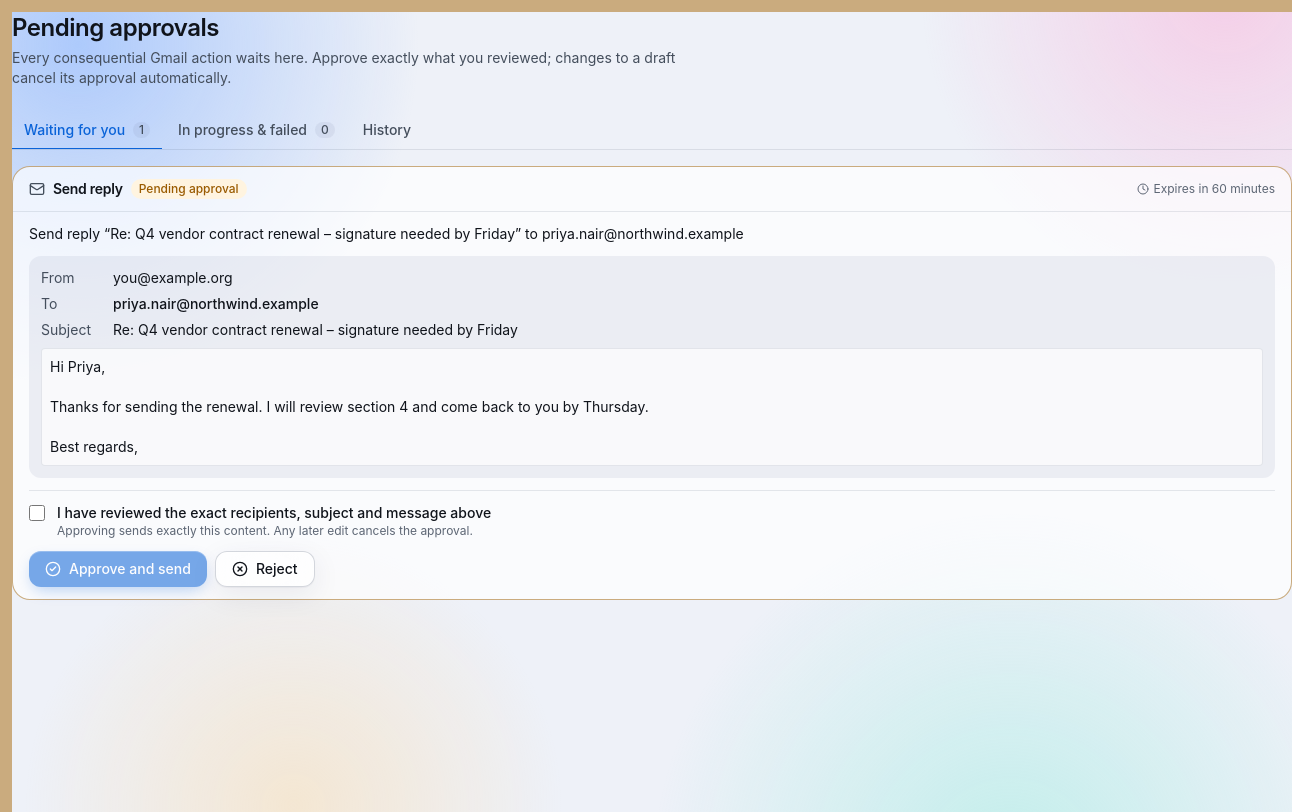
Test case: Approvals page › approves exactly the reviewed send request
The width and height of the screenshot is (1292, 812).
Expected: the button "Approve and send" is disabled, [29,551,207,587]
Click the checkbox labelled "reviewed the exact recipients": (37, 513) [29,505,45,521]
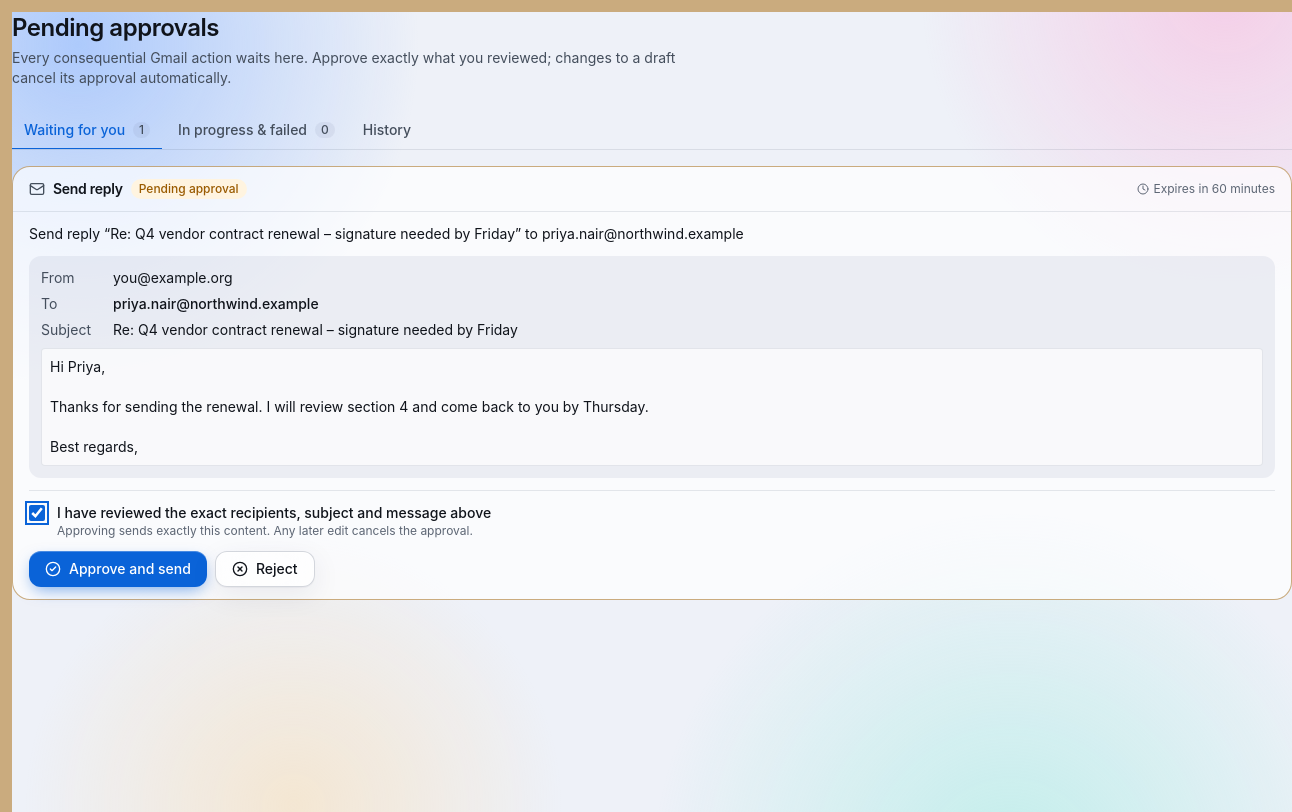
Click the button "Approve and send": (118, 569) [29,551,207,587]
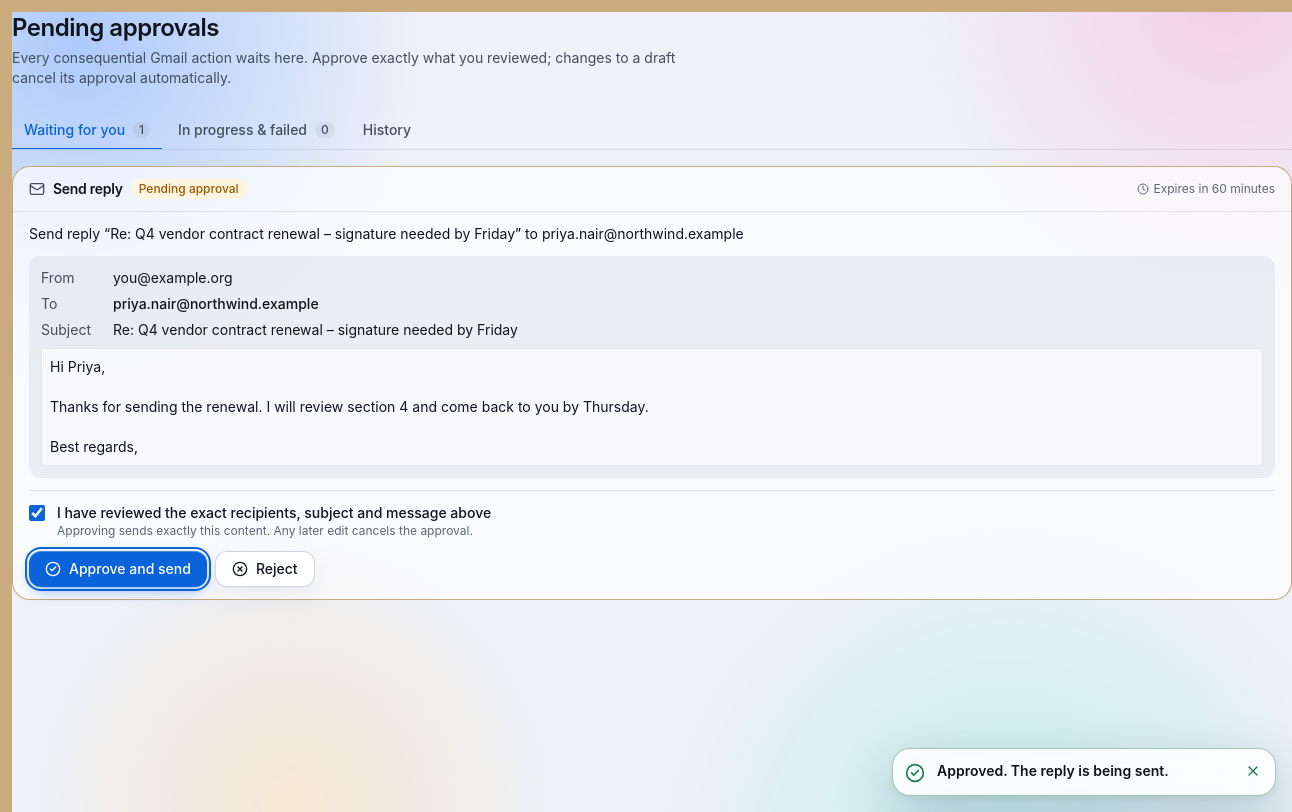
Now the text "Approved. The reply is being sent." is shown, box [937,762,1169,779]
